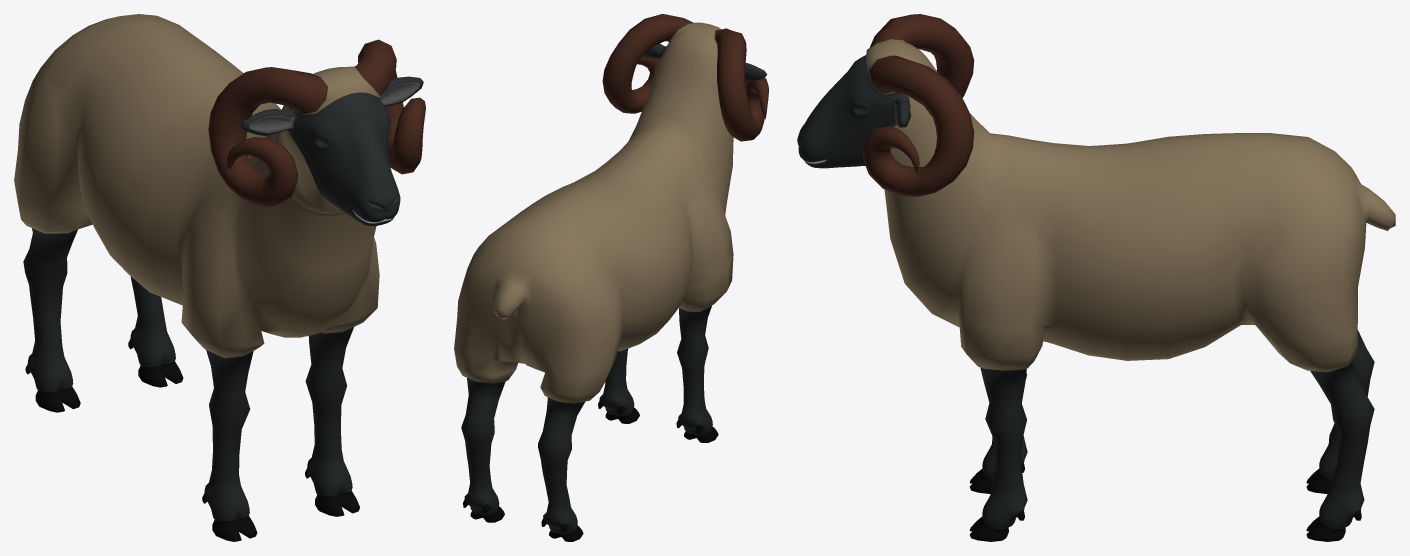
Rendered from ram_sheep_ram_sheep.obj.
3 renders of one model, left to right at view 1: azimuth 30°, elevation 25°; view 2: azimuth 150°, elevation 25°; view 3: azimuth 270°, elevation 25°, orthographic. The views are drawn at different scales.
Parts seen in each view (by area): view 1: ram_sheep; view 2: ram_sheep; view 3: ram_sheep.
Boxes of the visible parts, x1,y1,x2,y2 form: ram_sheep: (14, 14, 425, 541); ram_sheep: (454, 14, 768, 541); ram_sheep: (797, 14, 1395, 541).
Size of the model in its own units: 0.5553 by 1.3 by 1.49.
